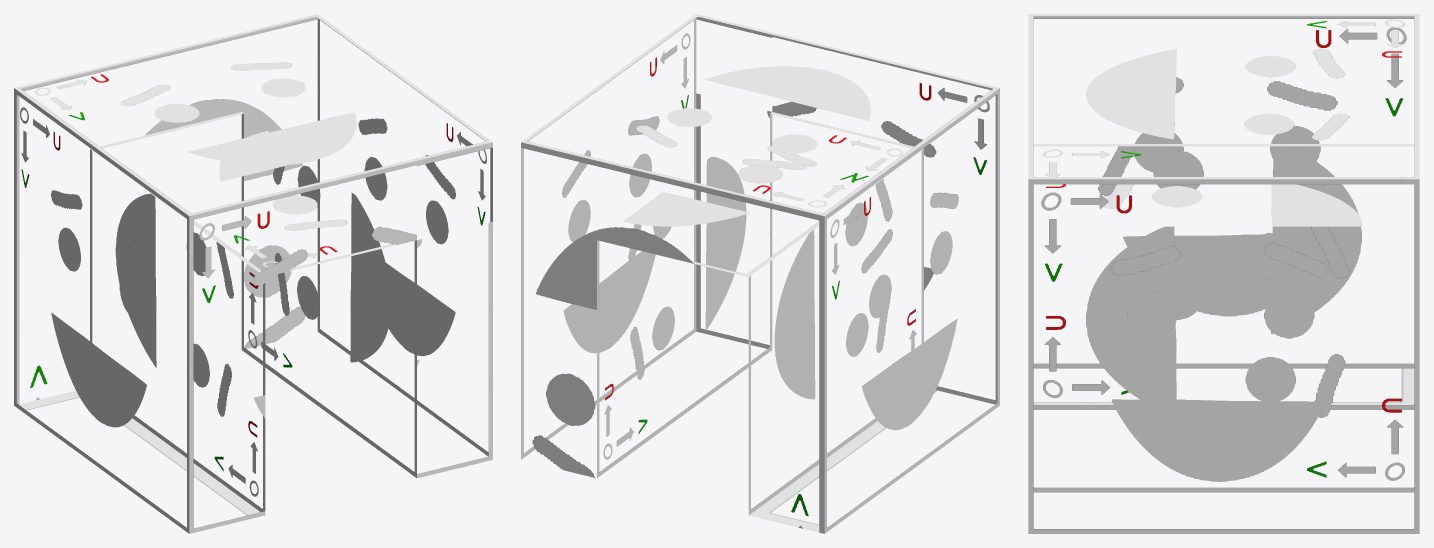
Rendered from doorway.fbx.
The picture shows the model from 3 angles, left to right: view 1: azimuth 30°, elevation 25°; view 2: azimuth 150°, elevation 25°; view 3: azimuth 270°, elevation 25°; orthographic projection. The views are drawn at different scales.
Parts seen in each view (by area): view 1: pCube2; view 2: pCube2; view 3: pCube2.
Boxes of the visible parts, <box> form: pCube2: <box>14,14,492,533</box>; pCube2: <box>521,14,999,533</box>; pCube2: <box>1028,14,1419,533</box>.
Size of the model in its own units: 1 by 1 by 1.
Materials: 1 (1 with a texture image).
